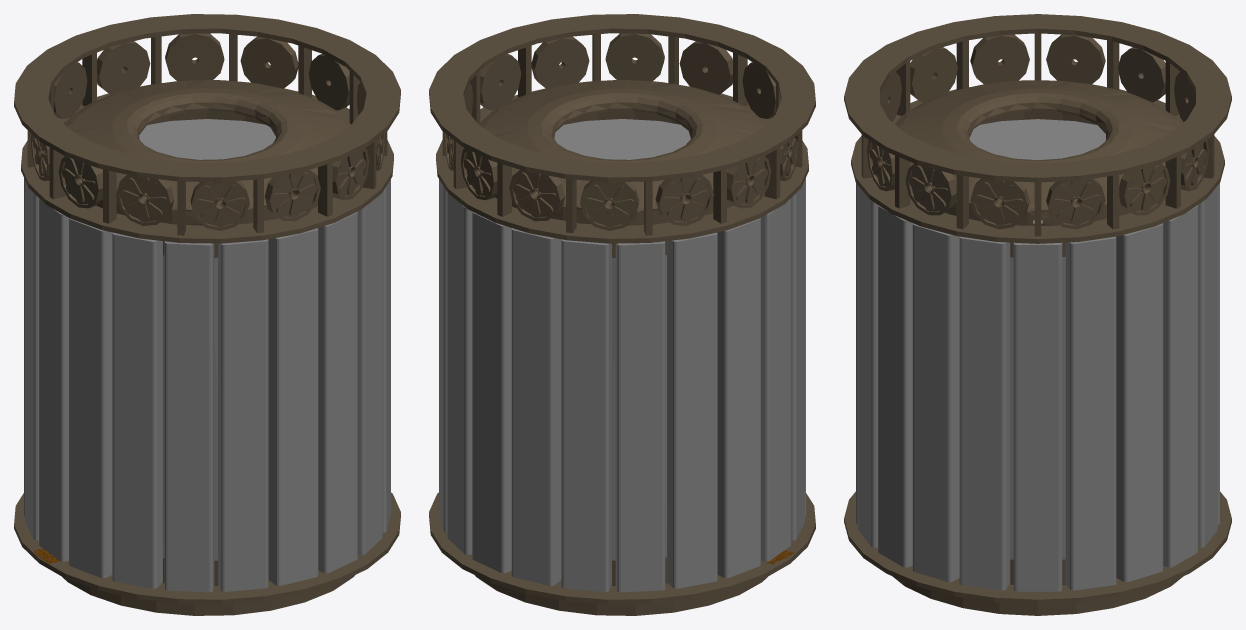
The picture shows the model from 3 angles, left to right: view 1: azimuth 30°, elevation 25°; view 2: azimuth 150°, elevation 25°; view 3: azimuth 270°, elevation 25°; orthographic projection.
Visible parts, largest first — view 1: mesh57.002_mesh57-geometry, mesh1.040_mesh1-geometry, mesh1.039_mesh1-geometry, mesh1.038_mesh1-geometry, mesh1.021_mesh1-geometry, mesh1.037_mesh1-geometry, mesh20.002_mesh20-geometry, mesh1.022_mesh1-geometry, mesh1.036_mesh1-geometry, mesh1.023_mesh1-geometry, mesh52.002_mesh52-geometry, mesh68.002_mesh68-geometry (+23 smaller); view 2: mesh57.002_mesh57-geometry, mesh1.032_mesh1-geometry, mesh1.033_mesh1-geometry, mesh1.034_mesh1-geometry, mesh1.031_mesh1-geometry, mesh1.035_mesh1-geometry, mesh20.002_mesh20-geometry, mesh1.030_mesh1-geometry, mesh1.036_mesh1-geometry, mesh1.029_mesh1-geometry, mesh52.002_mesh52-geometry, mesh68.002_mesh68-geometry (+23 smaller); view 3: mesh57.002_mesh57-geometry, mesh1.027_mesh1-geometry, mesh1.025_mesh1-geometry, mesh1.026_mesh1-geometry, mesh1.028_mesh1-geometry, mesh1.024_mesh1-geometry, mesh20.002_mesh20-geometry, mesh1.029_mesh1-geometry, mesh1.023_mesh1-geometry, mesh52.002_mesh52-geometry, mesh68.002_mesh68-geometry, mesh1.030_mesh1-geometry (+26 smaller).
Boxes of the visible parts, x1=… form: mesh57.002_mesh57-geometry: x1=14, y1=14, x2=400, y2=182; mesh1.040_mesh1-geometry: x1=218, y1=239, x2=268, y2=591; mesh1.039_mesh1-geometry: x1=164, y1=241, x2=214, y2=592; mesh1.038_mesh1-geometry: x1=112, y1=232, x2=162, y2=588; mesh1.021_mesh1-geometry: x1=268, y1=228, x2=318, y2=585; mesh1.037_mesh1-geometry: x1=69, y1=218, x2=112, y2=578; mesh20.002_mesh20-geometry: x1=64, y1=80, x2=350, y2=225; mesh1.022_mesh1-geometry: x1=318, y1=211, x2=357, y2=573; mesh1.036_mesh1-geometry: x1=39, y1=198, x2=68, y2=561; mesh1.023_mesh1-geometry: x1=357, y1=192, x2=382, y2=554; mesh52.002_mesh52-geometry: x1=21, y1=88, x2=393, y2=243; mesh68.002_mesh68-geometry: x1=139, y1=119, x2=275, y2=559; mesh57.002_mesh57-geometry: x1=429, y1=14, x2=815, y2=182; mesh1.032_mesh1-geometry: x1=561, y1=239, x2=611, y2=591; mesh1.033_mesh1-geometry: x1=615, y1=241, x2=665, y2=592; mesh1.034_mesh1-geometry: x1=667, y1=232, x2=717, y2=588; mesh1.031_mesh1-geometry: x1=511, y1=228, x2=561, y2=585; mesh1.035_mesh1-geometry: x1=717, y1=218, x2=760, y2=578; mesh20.002_mesh20-geometry: x1=479, y1=80, x2=765, y2=225; mesh1.030_mesh1-geometry: x1=472, y1=211, x2=511, y2=573; mesh1.036_mesh1-geometry: x1=761, y1=198, x2=790, y2=561; mesh1.029_mesh1-geometry: x1=447, y1=192, x2=472, y2=554; mesh52.002_mesh52-geometry: x1=436, y1=88, x2=808, y2=243; mesh68.002_mesh68-geometry: x1=554, y1=119, x2=690, y2=559; mesh57.002_mesh57-geometry: x1=844, y1=14, x2=1231, y2=182; mesh1.027_mesh1-geometry: x1=1065, y1=236, x2=1116, y2=590; mesh1.025_mesh1-geometry: x1=959, y1=236, x2=1010, y2=590; mesh1.026_mesh1-geometry: x1=1013, y1=242, x2=1062, y2=591; mesh1.028_mesh1-geometry: x1=1116, y1=223, x2=1163, y2=582; mesh1.024_mesh1-geometry: x1=912, y1=223, x2=959, y2=582; mesh20.002_mesh20-geometry: x1=895, y1=80, x2=1180, y2=225; mesh1.029_mesh1-geometry: x1=1163, y1=205, x2=1197, y2=567; mesh1.023_mesh1-geometry: x1=878, y1=205, x2=912, y2=567; mesh52.002_mesh52-geometry: x1=851, y1=89, x2=1224, y2=243; mesh68.002_mesh68-geometry: x1=969, y1=119, x2=1105, y2=558; mesh1.030_mesh1-geometry: x1=1198, y1=186, x2=1217, y2=547.
Bounding box in the file's own units: 0.5232 × 0.6727 × 0.5232.
